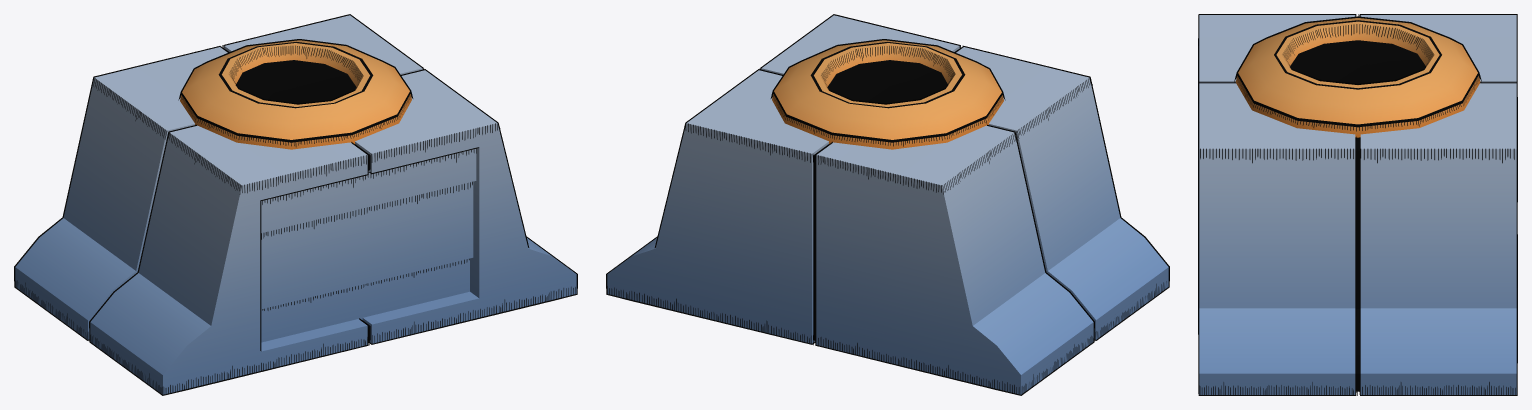
Rendered from SciFi_Battery.glb.
3 renders of one model, left to right at view 1: azimuth 30°, elevation 25°; view 2: azimuth 150°, elevation 25°; view 3: azimuth 270°, elevation 25°, orthographic. The views are drawn at different scales.
Visible parts, largest first — view 1: SciFi_Battery; view 2: SciFi_Battery; view 3: SciFi_Battery.
Boxes of the visible parts, x1,y1,x2,y2 form: SciFi_Battery: (14,14,577,395); SciFi_Battery: (606,14,1169,395); SciFi_Battery: (1198,14,1517,395).
Bounding box in the file's own units: 1.45 × 0.7234 × 0.8975.
3 materials, 2 textured.
